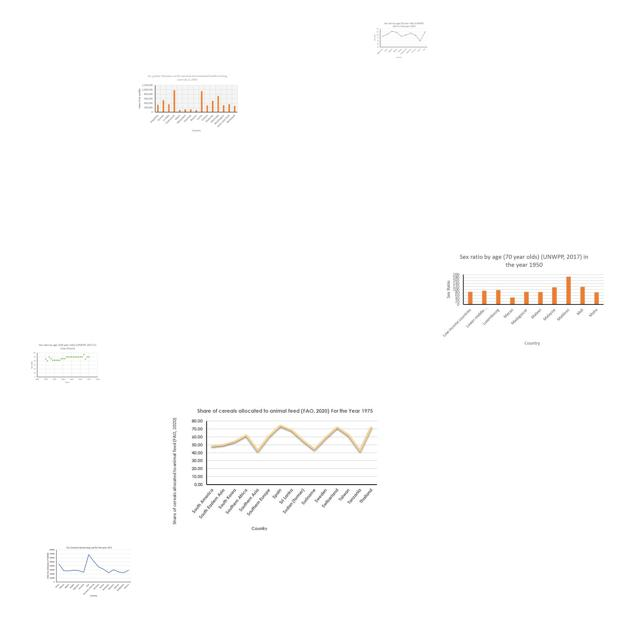Graph: (170, 406, 383, 532), (441, 251, 607, 348), (135, 72, 239, 133), (46, 546, 132, 597), (29, 343, 101, 385), (373, 22, 429, 59)
